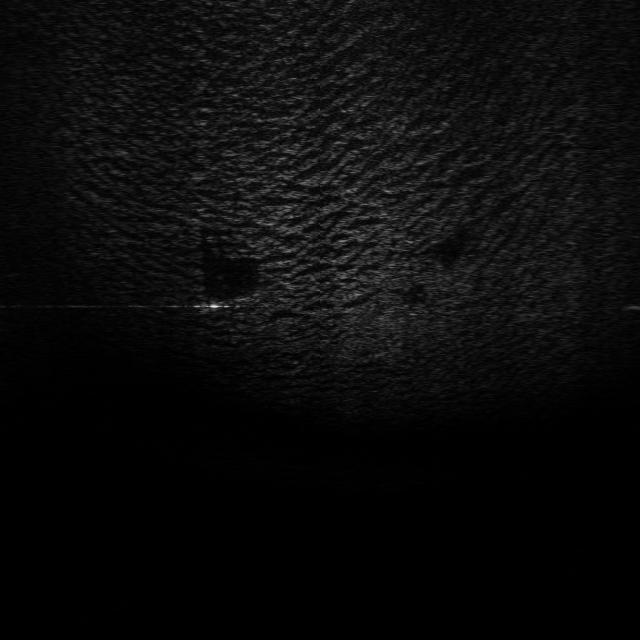plane: (190, 288, 266, 318)
